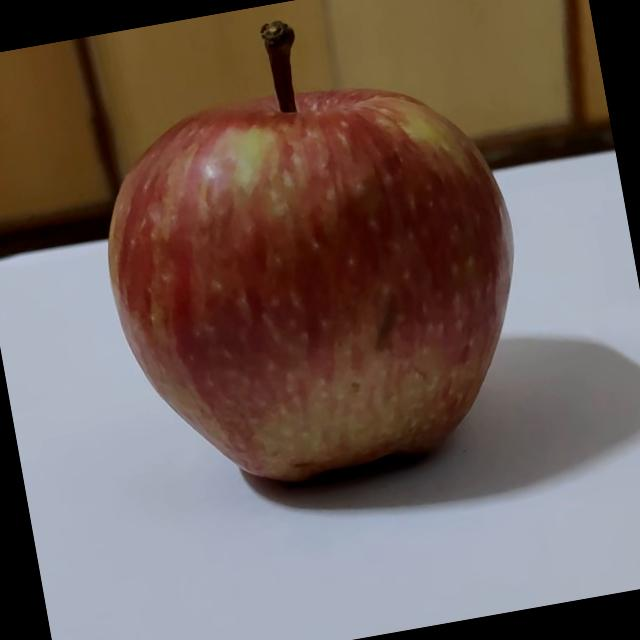apple: (69, 0, 554, 516)
